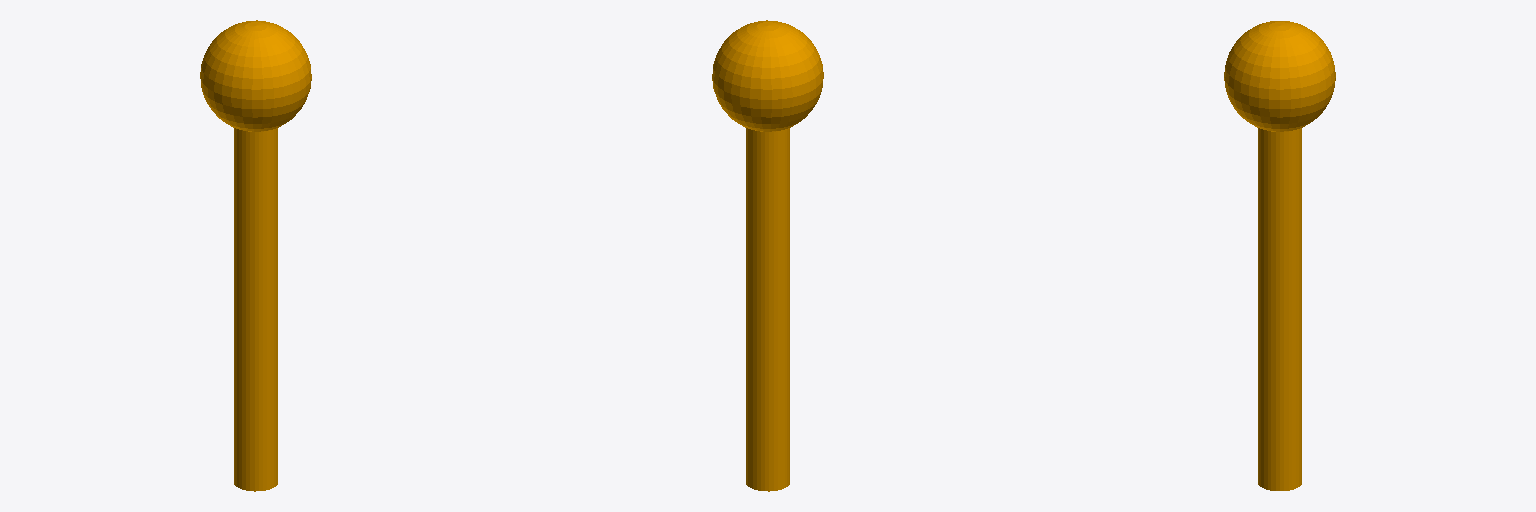
robot.urdf — camera_pole:
<?xml version="1.0" ?>
<robot name="camera_pole">
  <joint name="camera_pole__fwd_cam_joint" type="fixed">
    <parent link="camera_pole__base_link"/>
    <child link="camera_pole__fwd_cam_link"/>
    <origin xyz="0   0   0.42" rpy="3.14159 -1.57079  3.14159"/>
    <axis xyz="0 0 0"/>
    <limit lower="0" upper="0" effort="0" velocity="0"/>
  </joint>
  <joint name="camera_pole__cam_zero_joint" type="fixed">
    <parent link="camera_pole__base_link"/>
    <child link="camera_pole__cam_zero_link"/>
    <origin xyz="0.02 0   0.4" rpy="0 0 0"/>
    <axis xyz="0 0 0"/>
    <limit lower="0" upper="0" effort="0" velocity="0"/>
  </joint>
  <joint name="camera_pole__cam_one_joint" type="fixed">
    <parent link="camera_pole__base_link"/>
    <child link="camera_pole__cam_one_link"/>
    <origin xyz="0   0.02 0.4" rpy="0     0     1.5708"/>
    <axis xyz="0 0 0"/>
    <limit lower="0" upper="0" effort="0" velocity="0"/>
  </joint>
  <joint name="camera_pole__cam_two_joint" type="fixed">
    <parent link="camera_pole__base_link"/>
    <child link="camera_pole__cam_two_link"/>
    <origin xyz="-0.02  0    0.4" rpy="0      0      3.14159"/>
    <axis xyz="0 0 0"/>
    <limit lower="0" upper="0" effort="0" velocity="0"/>
  </joint>
  <joint name="camera_pole__cam_three_joint" type="fixed">
    <parent link="camera_pole__base_link"/>
    <child link="camera_pole__cam_three_link"/>
    <origin xyz="0   -0.02  0.4" rpy="0       0      -1.57079"/>
    <axis xyz="0 0 0"/>
    <limit lower="0" upper="0" effort="0" velocity="0"/>
  </joint>
  <link name="camera_pole__base_link">
    <inertial>
      <mass value="0.1"/>
      <origin xyz="0 0 0" rpy="0 0 0"/>
      <inertia ixx="0.0083137104" ixy="0" ixz="0" iyy="0.0387382402" iyz="0" izz="0.0469845106"/>
    </inertial>
    <collision name="camera_pole__collision">
      <origin xyz="0  0  0.2" rpy="0 0 0"/>
      <geometry>
        <cylinder radius="0.02" length="0.4"/>
      </geometry>
    </collision>
    <visual name="camera_pole__visual_cylinder">
      <origin xyz="0  0  0.2" rpy="0 0 0"/>
      <geometry>
        <cylinder radius="0.02" length="0.4"/>
      </geometry>
    </visual>
    <visual name="camera_pole__visual_sphere">
      <origin xyz="0  0  0.4" rpy="0 0 0"/>
      <geometry>
        <sphere radius="0.05"/>
      </geometry>
    </visual>
  </link>
  <link name="camera_pole__fwd_cam_link">
    <inertial>
      <mass value="1e-10"/>
      <origin xyz="0 0 0" rpy="0 0 0"/>
      <inertia ixx="0.1" ixy="0" ixz="0" iyy="0.1" iyz="0" izz="0.1"/>
    </inertial>
  </link>
  <link name="camera_pole__cam_zero_link">
    <inertial>
      <mass value="1e-10"/>
      <origin xyz="0 0 0" rpy="0 0 0"/>
      <inertia ixx="0.1" ixy="0" ixz="0" iyy="0.1" iyz="0" izz="0.1"/>
    </inertial>
  </link>
  <link name="camera_pole__cam_one_link">
    <inertial>
      <mass value="1e-10"/>
      <origin xyz="0 0 0" rpy="0 0 0"/>
      <inertia ixx="0.1" ixy="0" ixz="0" iyy="0.1" iyz="0" izz="0.1"/>
    </inertial>
  </link>
  <link name="camera_pole__cam_two_link">
    <inertial>
      <mass value="1e-10"/>
      <origin xyz="0 0 0" rpy="0 0 0"/>
      <inertia ixx="0.1" ixy="0" ixz="0" iyy="0.1" iyz="0" izz="0.1"/>
    </inertial>
  </link>
  <link name="camera_pole__cam_three_link">
    <inertial>
      <mass value="1e-10"/>
      <origin xyz="0 0 0" rpy="0 0 0"/>
      <inertia ixx="0.1" ixy="0" ixz="0" iyy="0.1" iyz="0" izz="0.1"/>
    </inertial>
  </link>
</robot>

--- What the picture shows (computed from the rendered views, not written in the file) ---
Views: 3 orthographic renders of the robot side by side, from view 1: azimuth 30°, elevation 25°; view 2: azimuth 150°, elevation 25°; view 3: azimuth 270°, elevation 25°.
Robot: camera_pole — 6 links, 5 joints (5 fixed); root link camera_pole__base_link; default pose: every joint at zero.
Links seen in each view (by area): view 1: camera_pole__base_link; view 2: camera_pole__base_link; view 3: camera_pole__base_link.
Boxes of the visible links, left/top/right/bottom form: camera_pole__base_link: left=200, top=20, right=311, bottom=491; camera_pole__base_link: left=712, top=20, right=823, bottom=491; camera_pole__base_link: left=1224, top=21, right=1335, bottom=490.
Size in the robot's own frame: 0.1 by 0.1 by 0.45 metres.
Geometry: primitives only (box / cylinder / sphere), no mesh files.